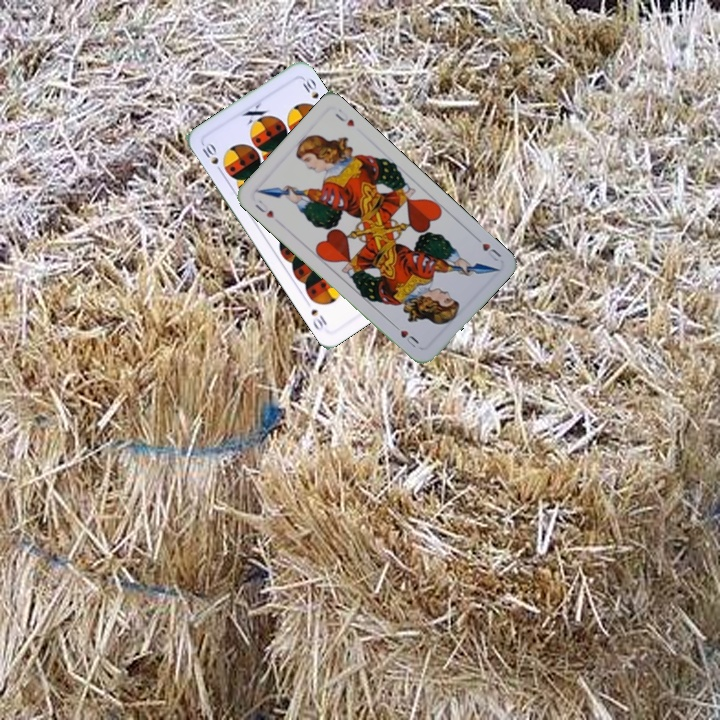HU: (470, 232, 504, 264), (250, 196, 277, 221)
S10: (198, 138, 225, 176)
